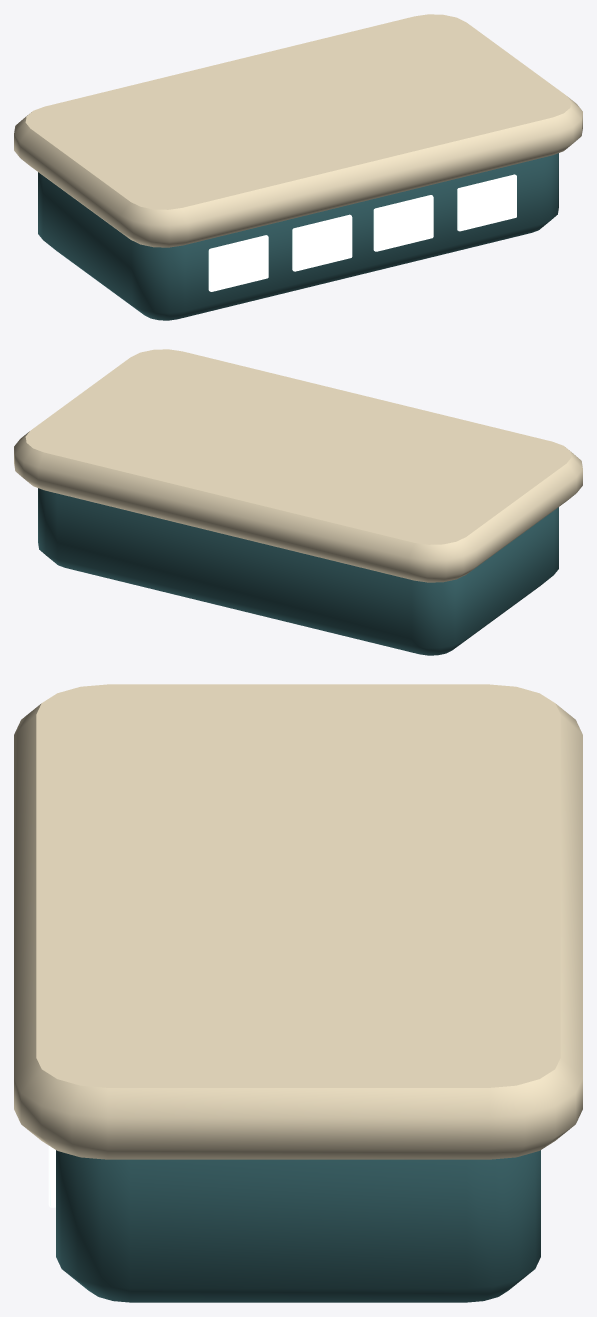
The model's file is service_clerestory.glb.
3 views of the same model, one above another, from view 1: azimuth 30°, elevation 25°; view 2: azimuth 150°, elevation 25°; view 3: azimuth 270°, elevation 25° (orthographic). The views are drawn at different scales.
Visible parts, largest first — view 1: Service_clerestory; view 2: Service_clerestory; view 3: Service_clerestory.
Part boxes in pixels (x1,y1,x2,y2): Service_clerestory: (14,14,582,320); Service_clerestory: (14,349,582,655); Service_clerestory: (14,684,582,1302).
Size of the model in its own units: 2.02 by 0.52 by 1.15.
